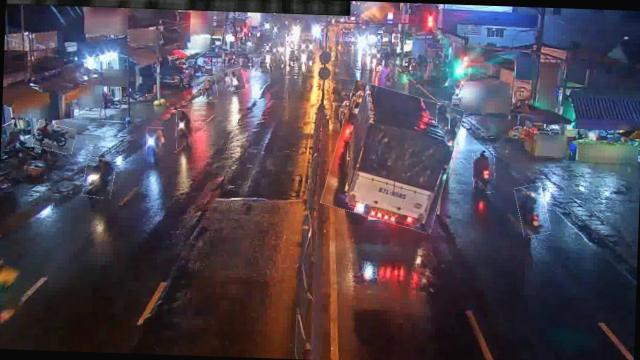Bike: (516, 184, 550, 237), (83, 158, 115, 199), (34, 122, 76, 152), (472, 153, 495, 192), (146, 127, 164, 166), (175, 109, 192, 149), (200, 76, 218, 102), (228, 68, 245, 92), (437, 104, 452, 129)
Truck: (327, 84, 459, 228)
